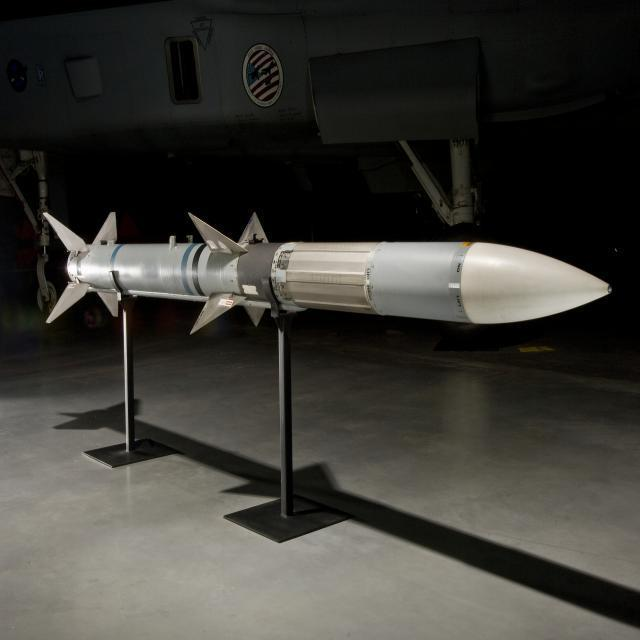missile: (33, 201, 633, 331)
